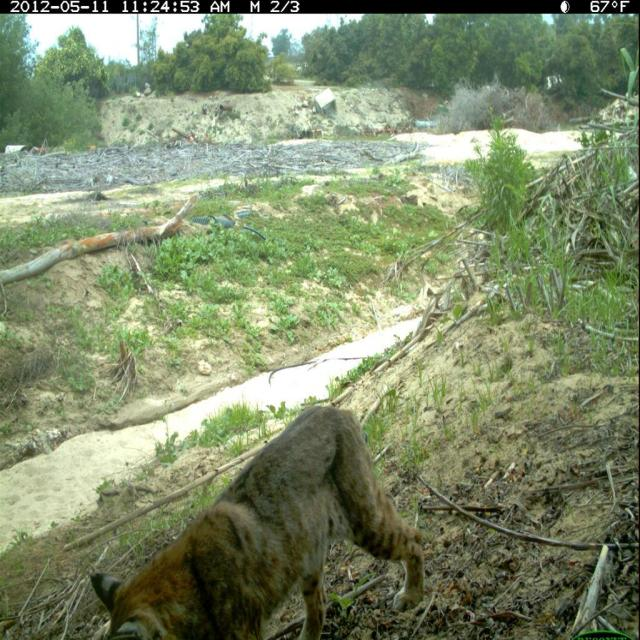bobcat: (87, 397, 436, 640)
